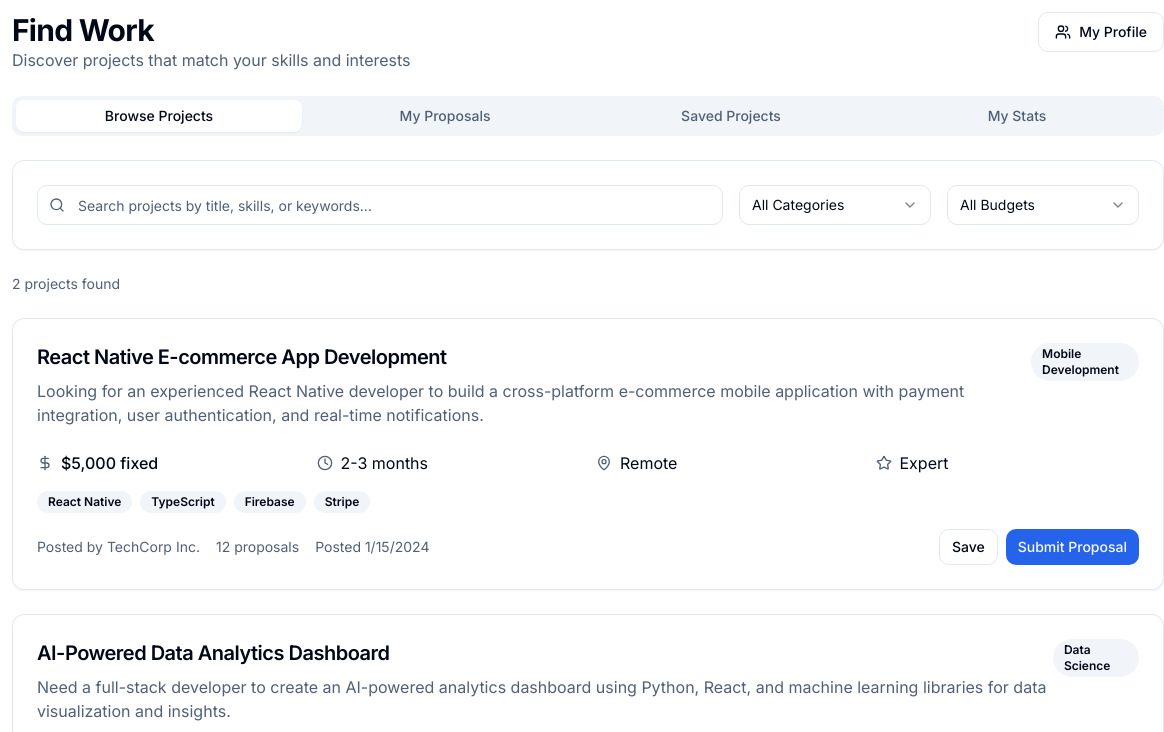
Find Work search › filters projects, shows an empty state and can be reset
Expected: the text "2 projects found" is shown, [12,275,120,292]
Step 1. Type "python" into the search field labelled "Search projects" → (380, 205), box [37,185,723,225]
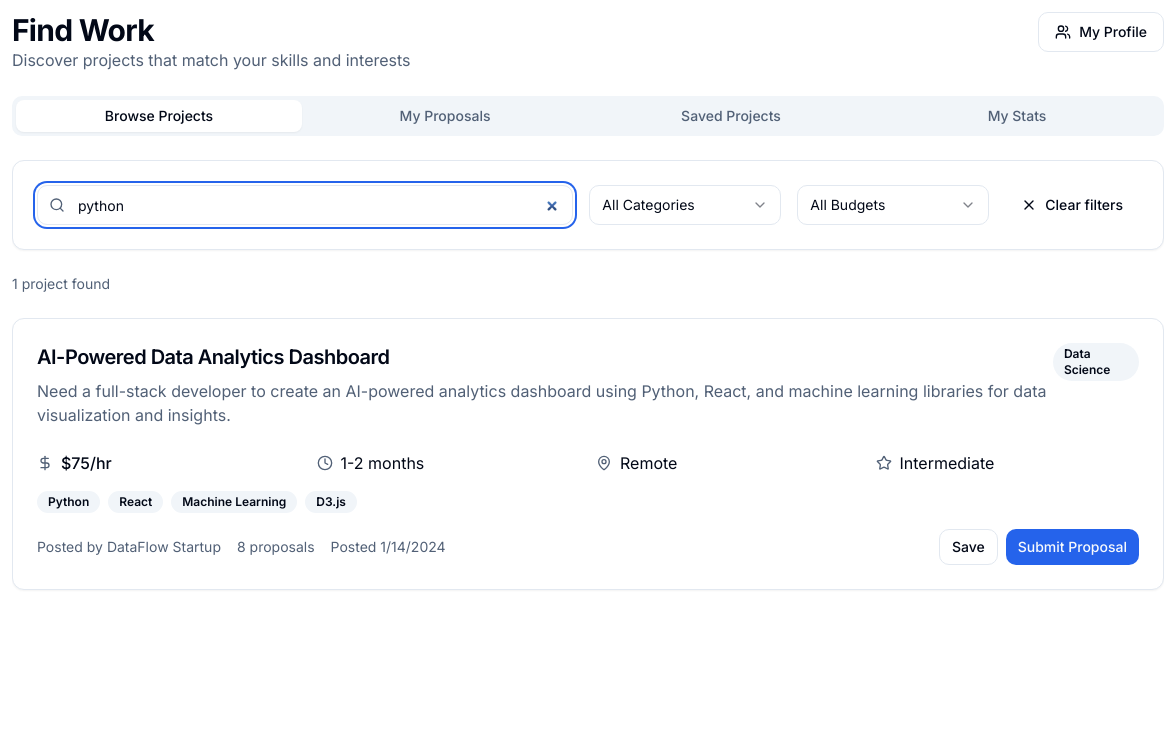
Expected: the heading "AI-Powered Data Analytics Dashboard" is shown, [37,345,390,369]
Expected: the text "1 project found" is shown, [12,275,110,292]
Expected: the heading "React Native E-commerce App Development" is gone
Step 2. Clear the search field named "Search projects" → (305, 205), box [37,185,573,225]
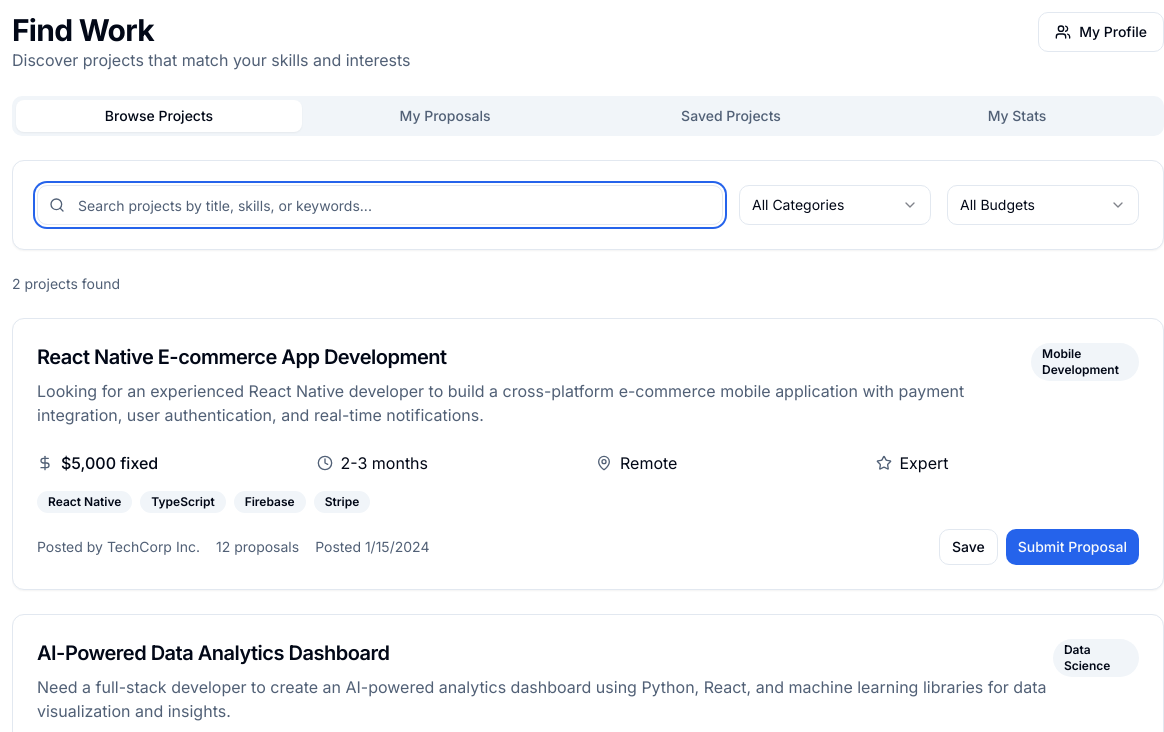
Step 3. Type "cobol" into the search field labelled "Search projects" → (380, 205), box [37,185,723,225]
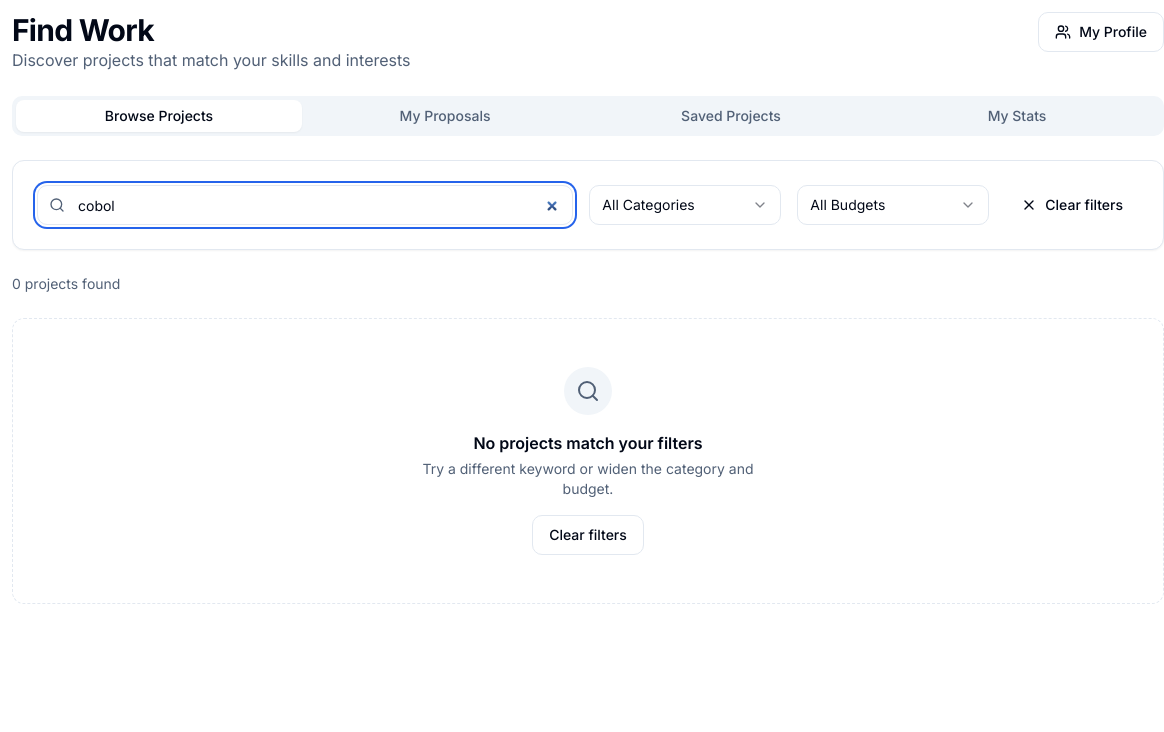
Expected: the text "No projects match your filters" is shown, [473,431,703,455]
Step 4. Click the 1st button "Clear filters" → (1072, 205), box [1005,185,1139,225]
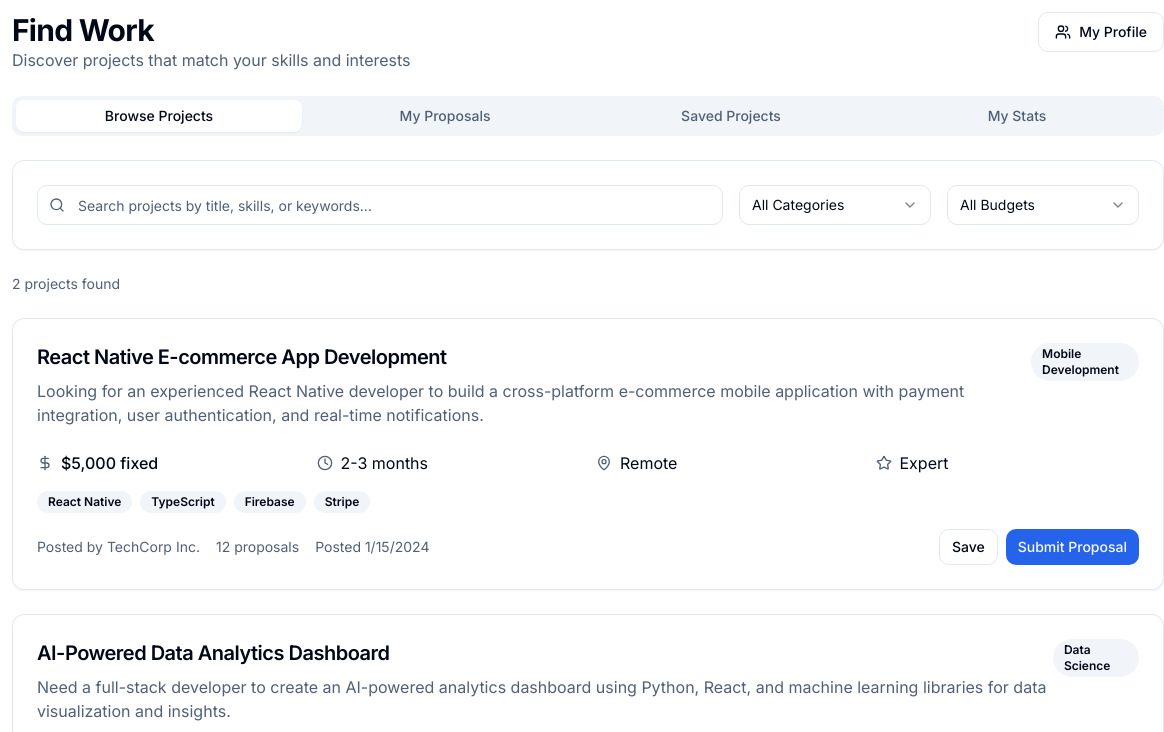
Expected: the text "2 projects found" is shown, [12,275,120,292]
